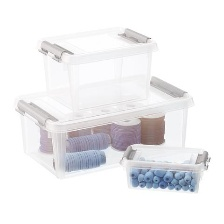plastic_box: (8, 69, 200, 185), (31, 16, 162, 115), (113, 139, 215, 199)
